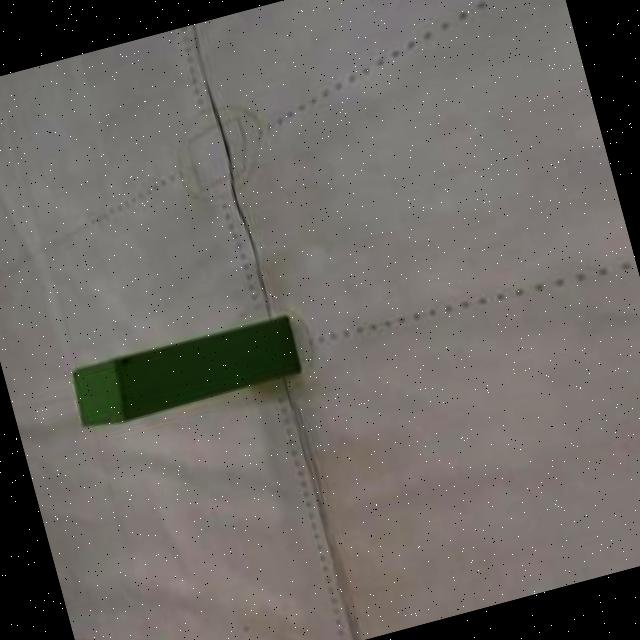greenbox: (67, 314, 299, 429)
